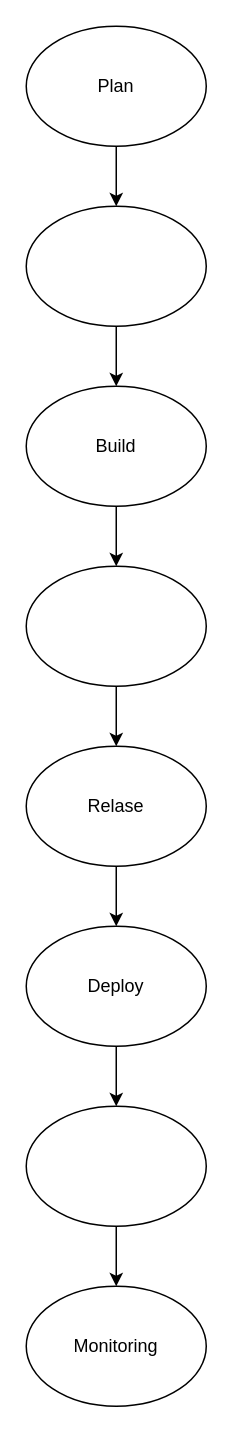
This 233x1433 diagram has some shape labels left out. The shapes that lost their labels are listed below. From the top down, each one's centre as x and y in pixels, then its label:
[115,265]: Develop
[115,625]: Test
[115,1165]: Operate
